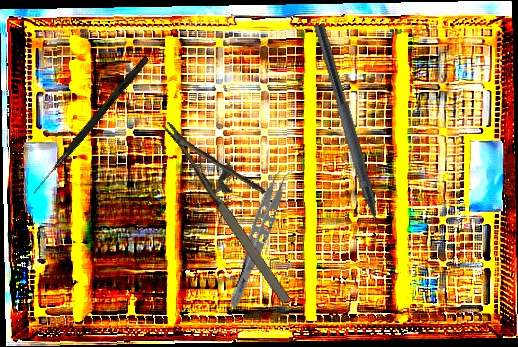Chopper: (298, 23, 393, 252)
Hook Surgical: (31, 53, 150, 198)
Needle Holder: (162, 97, 321, 308)
Tissue Forceps: (226, 161, 297, 314)
